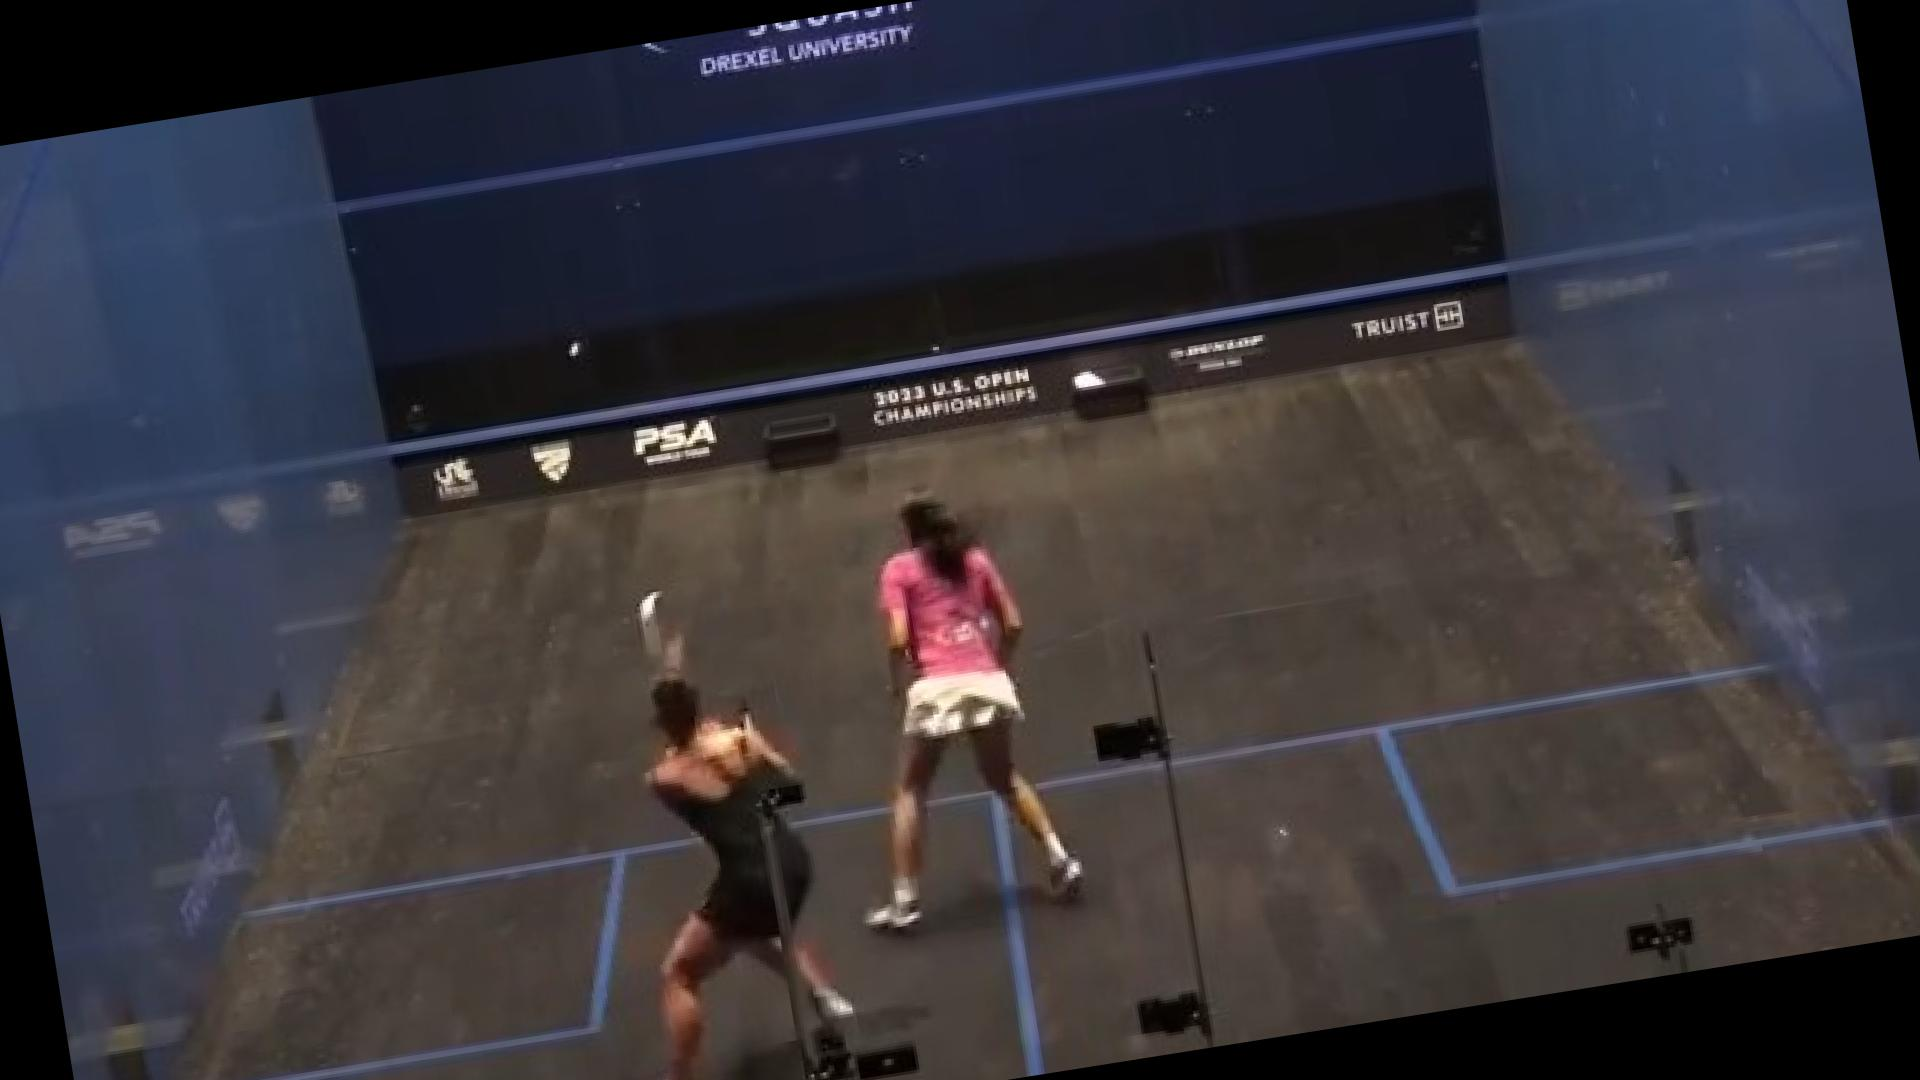Squash-Ball: (554, 331, 596, 377)
